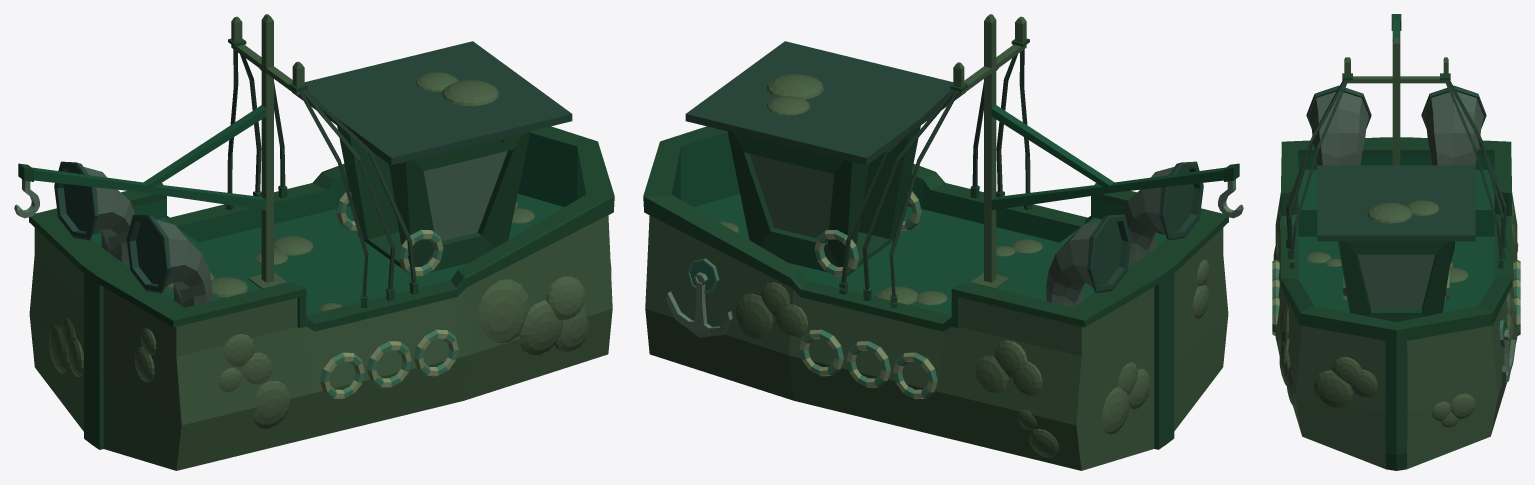
File: SubmergedBoat.fbx
3 views of the same model, side by side, from view 1: azimuth 30°, elevation 25°; view 2: azimuth 150°, elevation 25°; view 3: azimuth 270°, elevation 25° (orthographic). The views are drawn at different scales.
Visible parts, largest first — view 1: SubmergedBoat001; view 2: SubmergedBoat001; view 3: SubmergedBoat001.
Part boxes in pixels (left/top/right/bottom): SubmergedBoat001: left=14, top=14, right=614, bottom=470; SubmergedBoat001: left=643, top=14, right=1243, bottom=470; SubmergedBoat001: left=1272, top=14, right=1520, bottom=470.
Bounding box in the file's own units: 1234 × 807 × 573.
